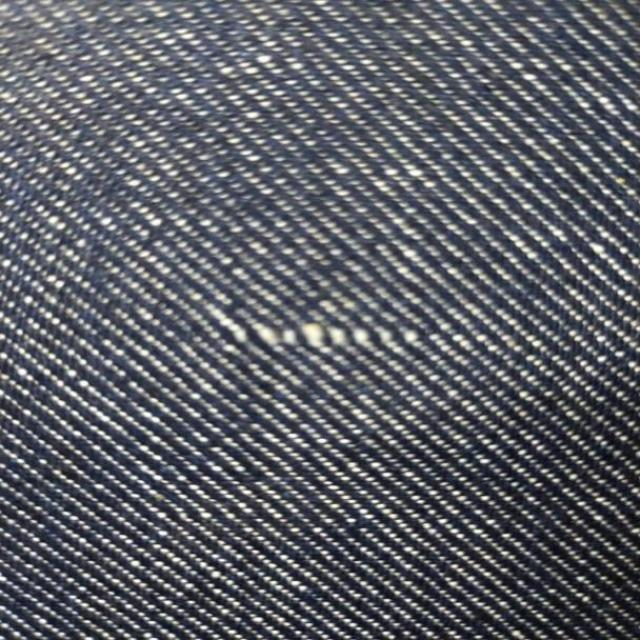Knot: (221, 319, 421, 349)
